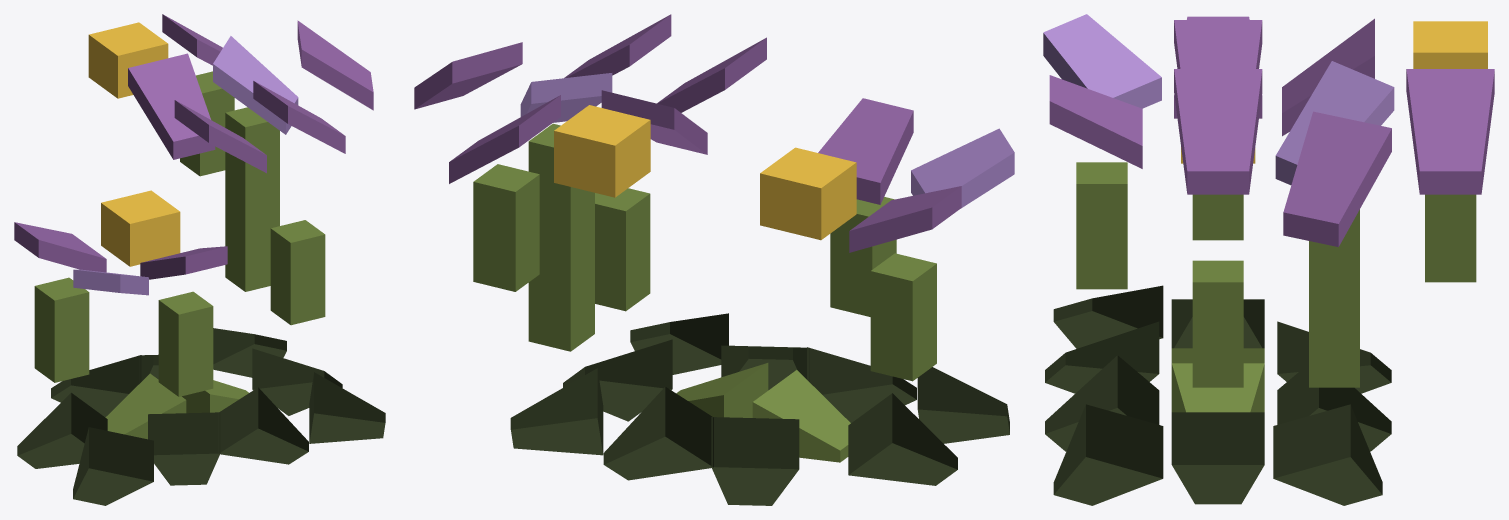
File: flower_mixed_accent.glb
The picture shows the model from 3 angles, left to right: view 1: azimuth 30°, elevation 25°; view 2: azimuth 150°, elevation 25°; view 3: azimuth 270°, elevation 25°; orthographic projection. The views are drawn at different scales.
Parts seen in each view (by area): view 1: flower_mixed_accent; view 2: flower_mixed_accent; view 3: flower_mixed_accent.
Boxes of the visible parts, x1=… form: flower_mixed_accent: x1=14, y1=14, x2=385, y2=505; flower_mixed_accent: x1=414, y1=14, x2=1014, y2=505; flower_mixed_accent: x1=1043, y1=14, x2=1494, y2=505.
Bounding box in the file's own units: 0.5028 × 0.376 × 0.3886.
1 material, 1 textured.
